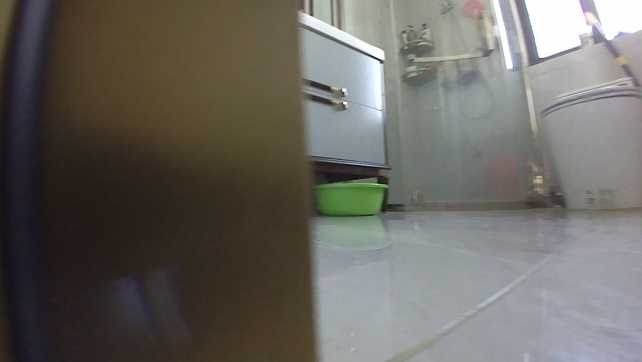toilet: (534, 72, 641, 209)
